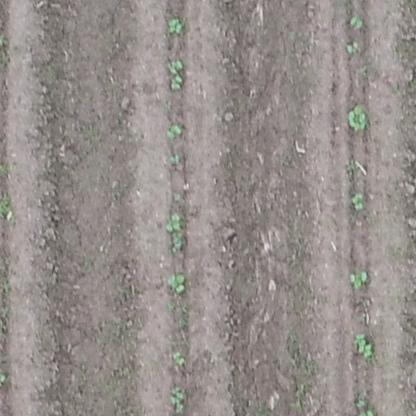vc: (347, 103, 371, 131), (348, 264, 372, 292), (354, 331, 377, 358), (167, 385, 187, 413), (163, 211, 186, 231), (166, 272, 188, 292), (349, 191, 368, 213), (165, 122, 184, 141), (166, 17, 185, 34), (166, 57, 185, 74), (171, 349, 188, 367), (165, 76, 185, 90), (349, 13, 364, 31), (171, 235, 185, 250), (166, 152, 182, 164), (346, 41, 360, 53)
